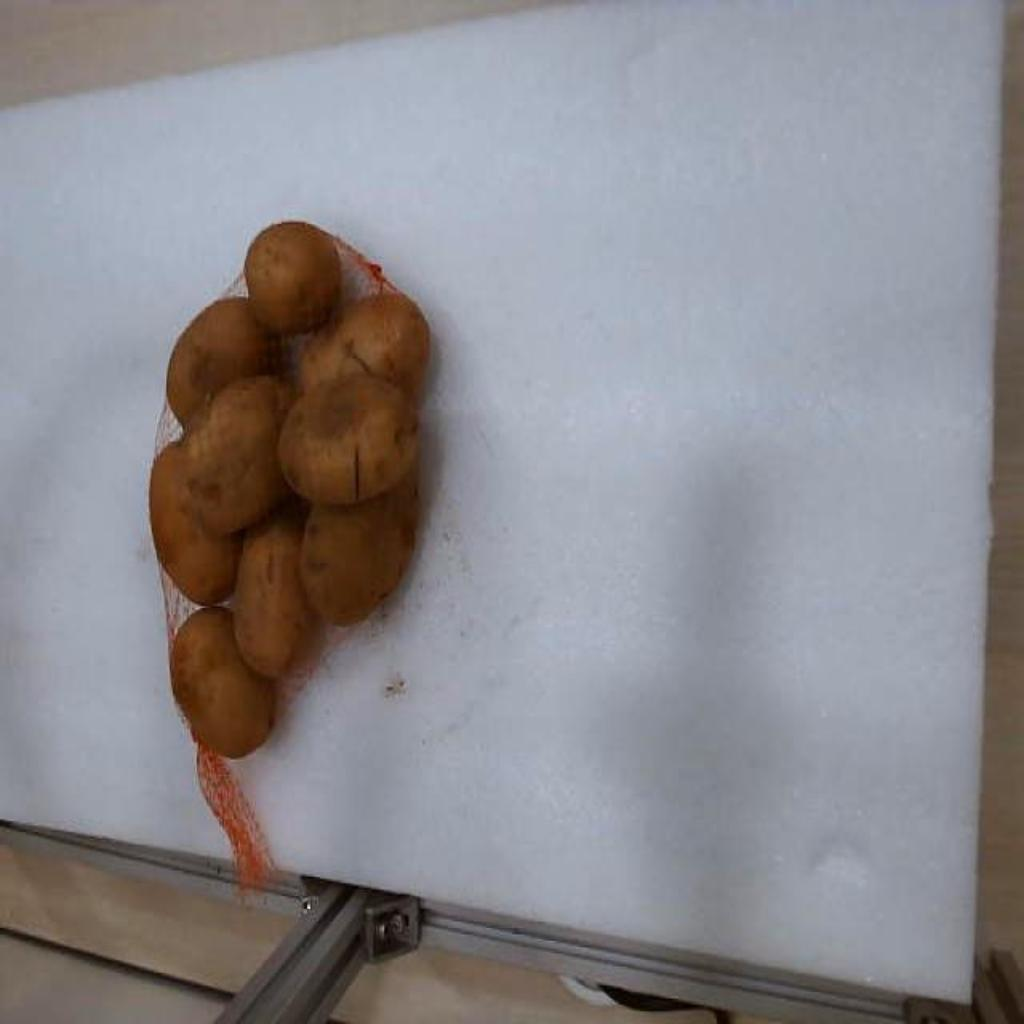potato: (278, 373, 418, 504), (300, 475, 418, 624), (184, 376, 292, 532), (172, 608, 274, 757), (150, 443, 242, 604), (300, 291, 430, 396), (166, 299, 272, 425), (234, 501, 310, 676), (244, 221, 342, 333), (340, 293, 430, 396)
